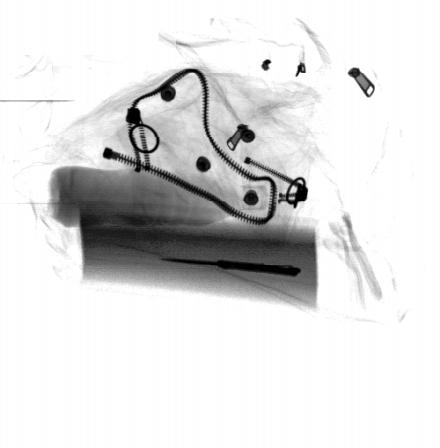Knife: (158, 258, 302, 277)
